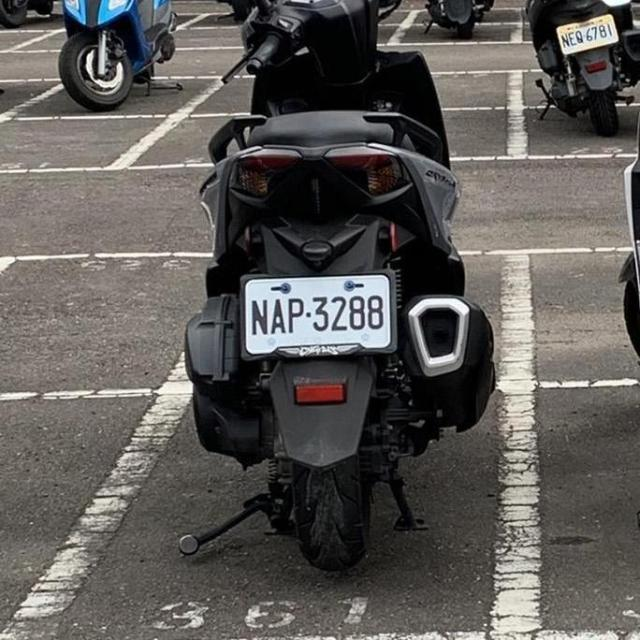W: (236, 275, 399, 358), (556, 12, 620, 58)
